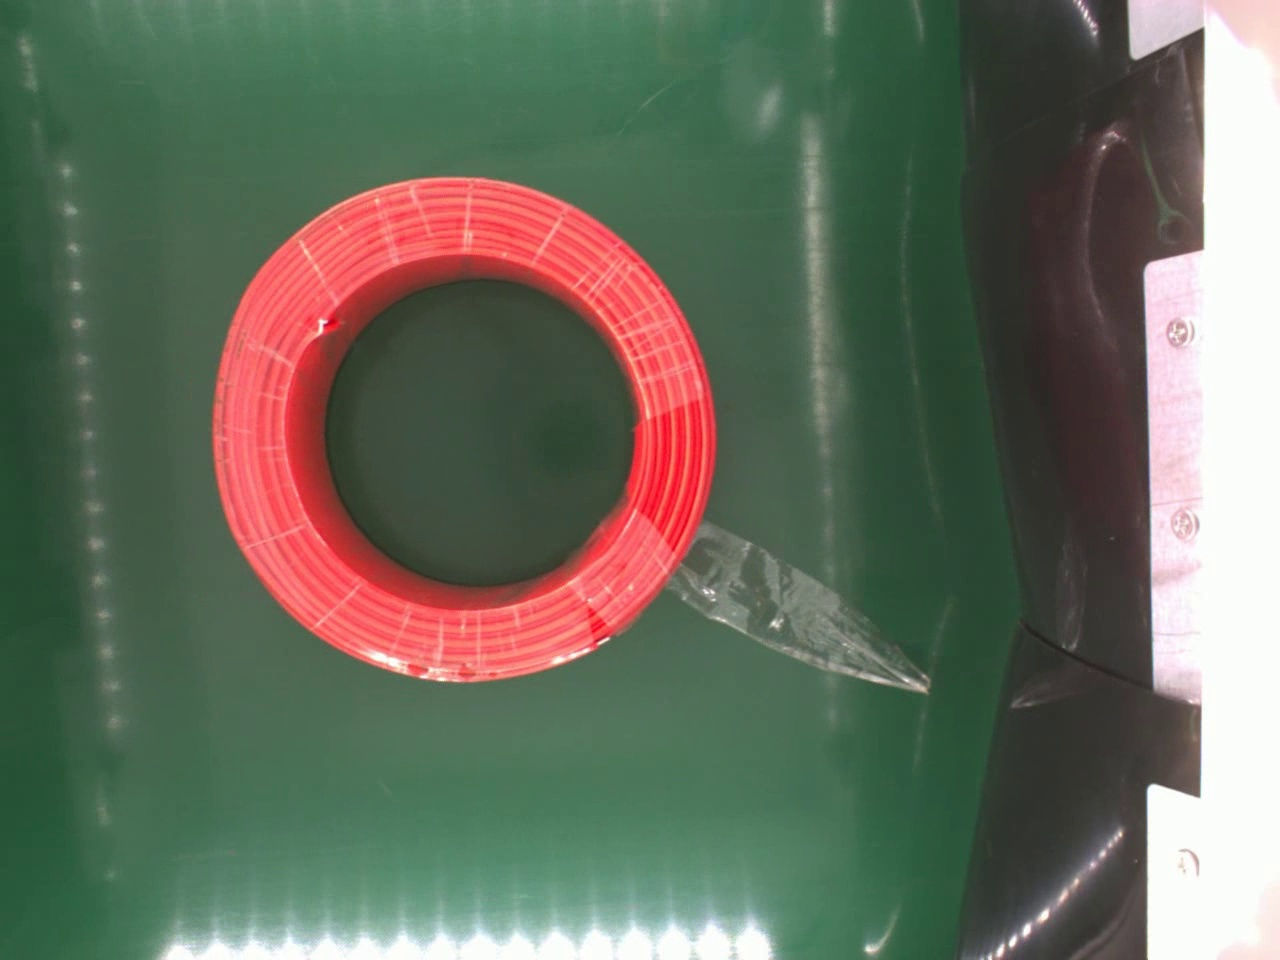red: (207, 172, 721, 690)
